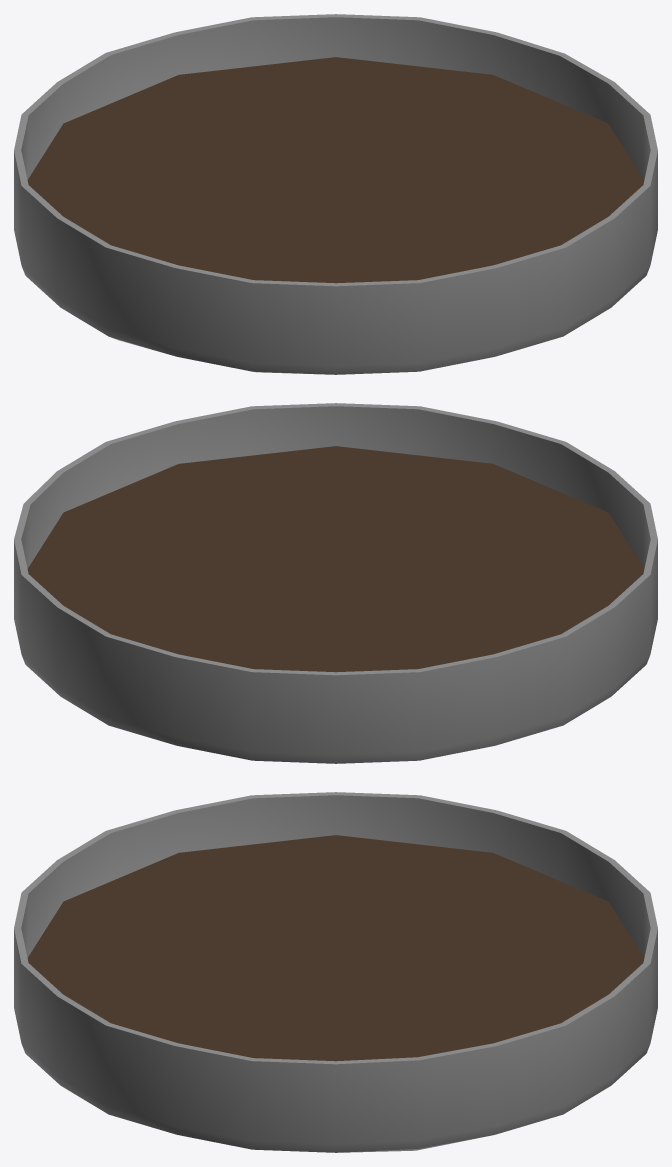
File: SM_培养基.fbx
3 views of the same model, one above another, from view 1: azimuth 30°, elevation 25°; view 2: azimuth 150°, elevation 25°; view 3: azimuth 270°, elevation 25° (orthographic).
Visible parts, largest first — view 1: SM_培养基; view 2: SM_培养基; view 3: SM_培养基.
Boxes of the visible parts, x1,y1,x2,y2 form: SM_培养基: (14,14,657,374); SM_培养基: (14,403,657,763); SM_培养基: (14,792,657,1152).
Bounding box in the file's own units: 0.0952 × 0.016 × 0.0952.
